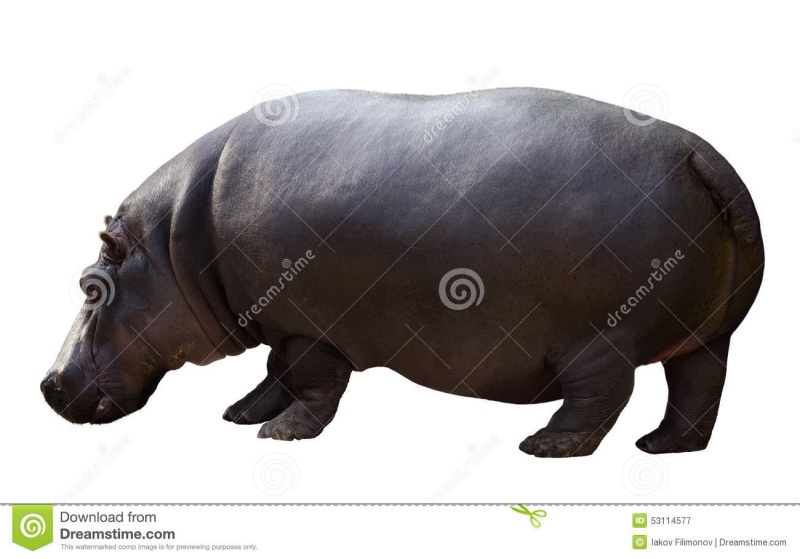hipopotamo: (30, 85, 754, 467)
